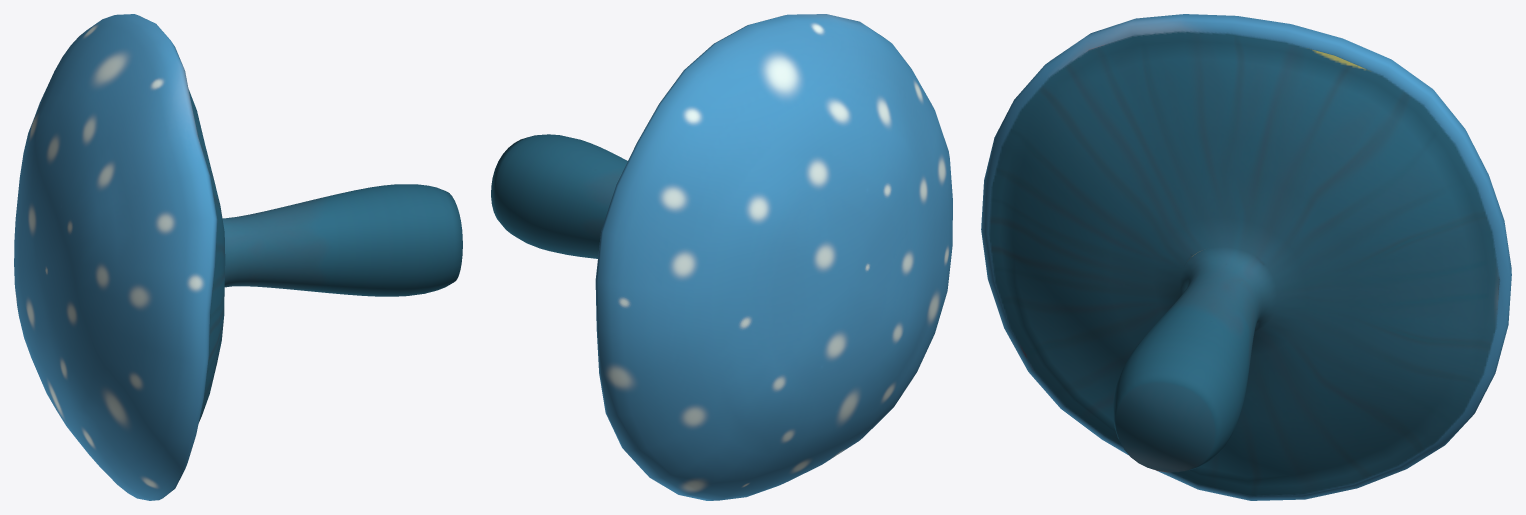
The model's file is AguaViva.fbx.
The picture shows the model from 3 angles, left to right: view 1: azimuth 30°, elevation 25°; view 2: azimuth 150°, elevation 25°; view 3: azimuth 270°, elevation 25°; orthographic projection. The views are drawn at different scales.
Parts seen in each view (by area): view 1: CogumeloAguaViva; view 2: CogumeloAguaViva; view 3: CogumeloAguaViva.
Boxes of the visible parts, x1=… form: CogumeloAguaViva: x1=14, y1=14, x2=462, y2=500; CogumeloAguaViva: x1=491, y1=14, x2=952, y2=500; CogumeloAguaViva: x1=981, y1=14, x2=1511, y2=500.
Size of the model in its own units: 194 by 209 by 204.
